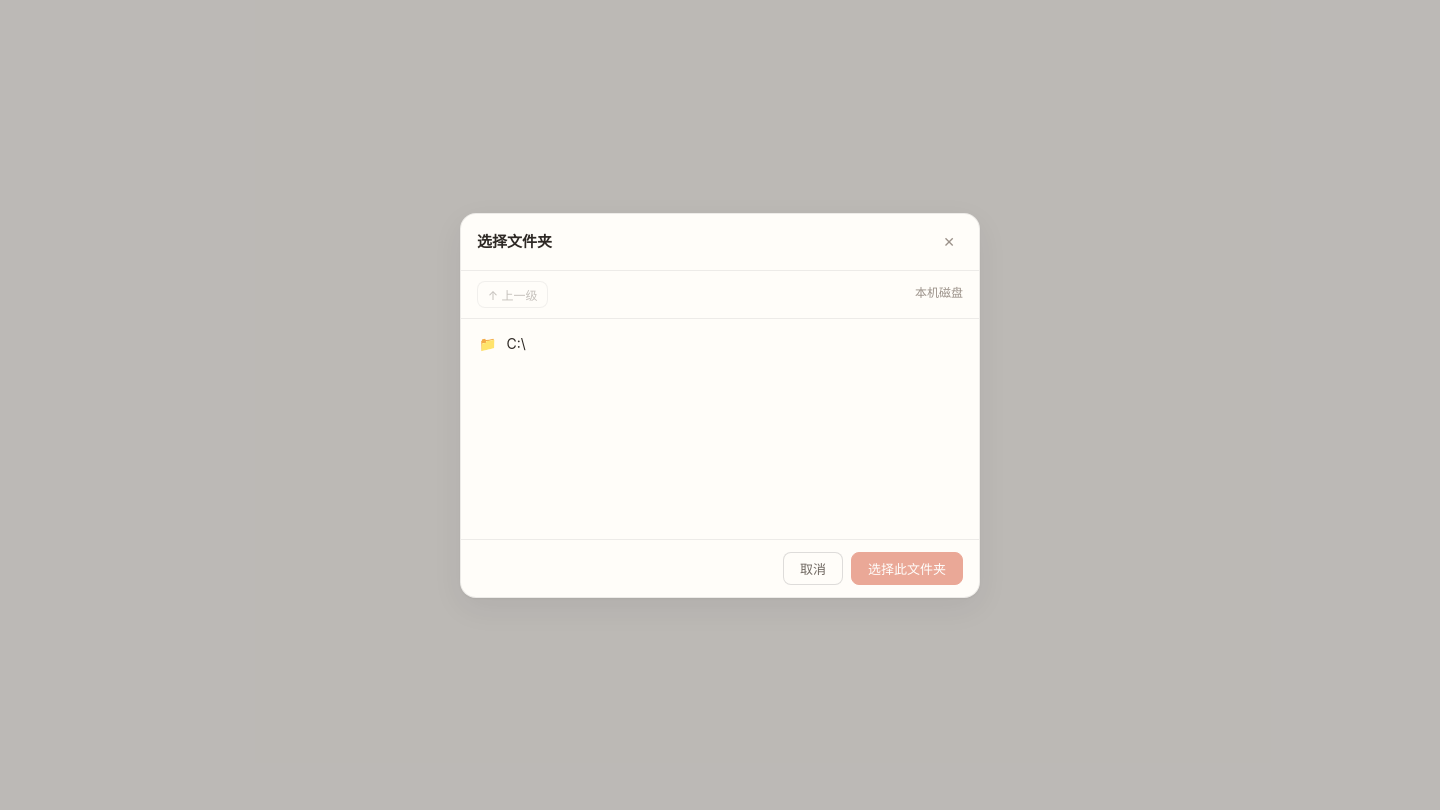
it: FolderPickerModal › 浏览失败显示错误
Click the text "C:\\" at (516, 343), box left=506, top=334, right=526, bottom=352
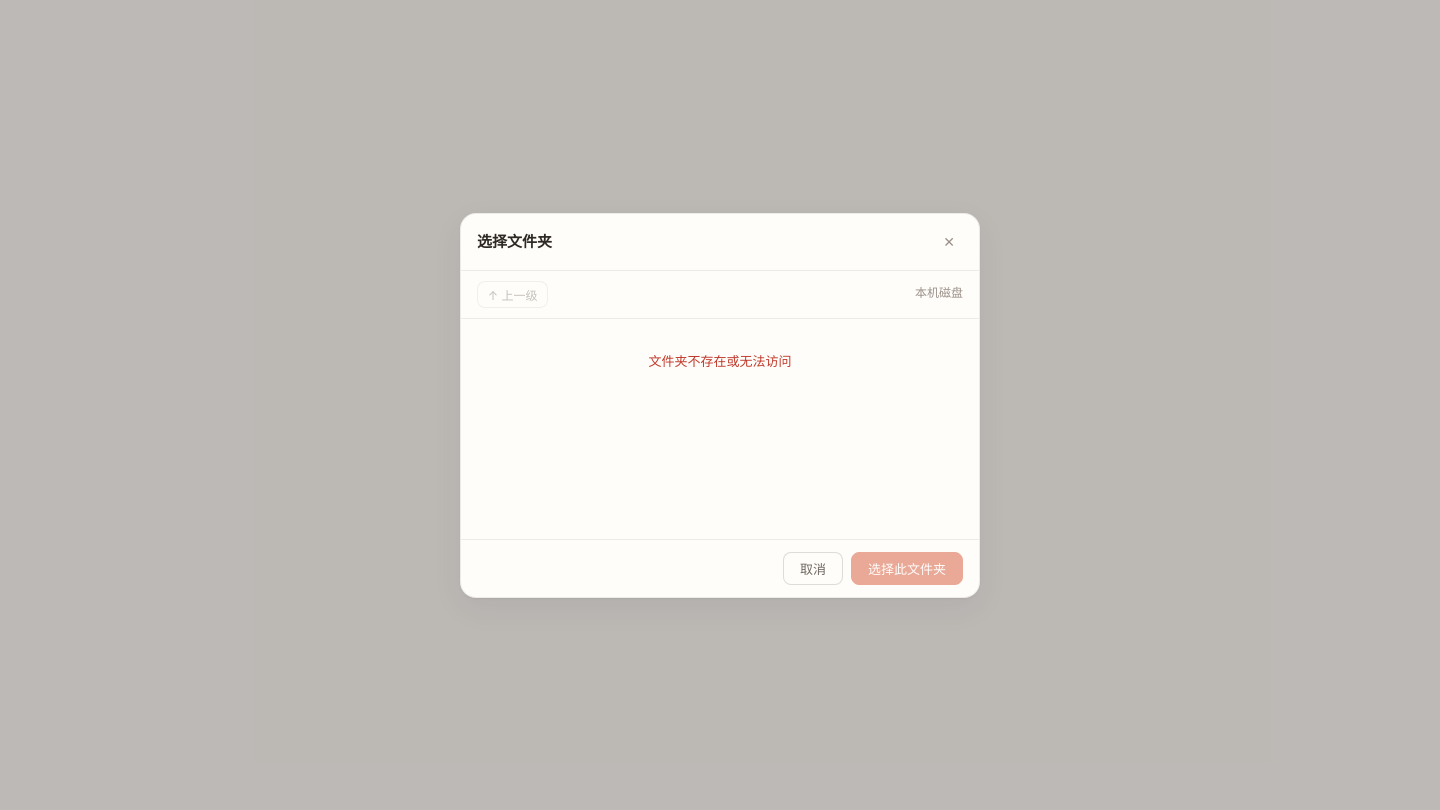
Result: the text "文件夹不存在或无法访问" is shown at left=648, top=352, right=792, bottom=368
